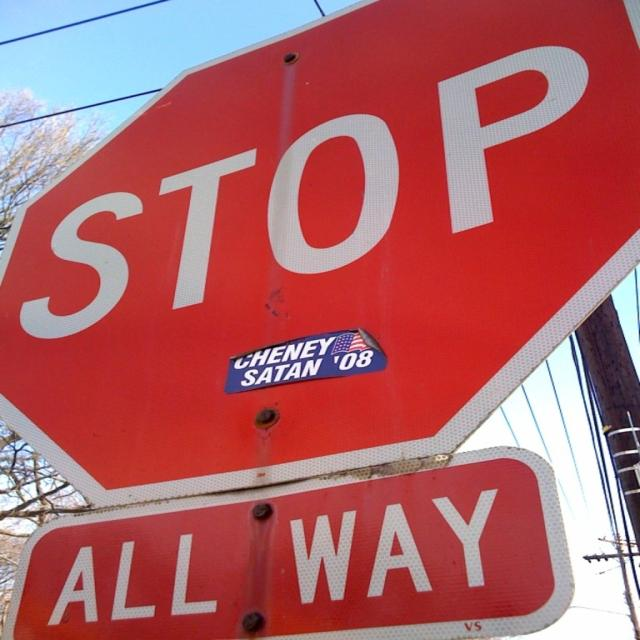Stop-sign: (0, 0, 639, 511)
